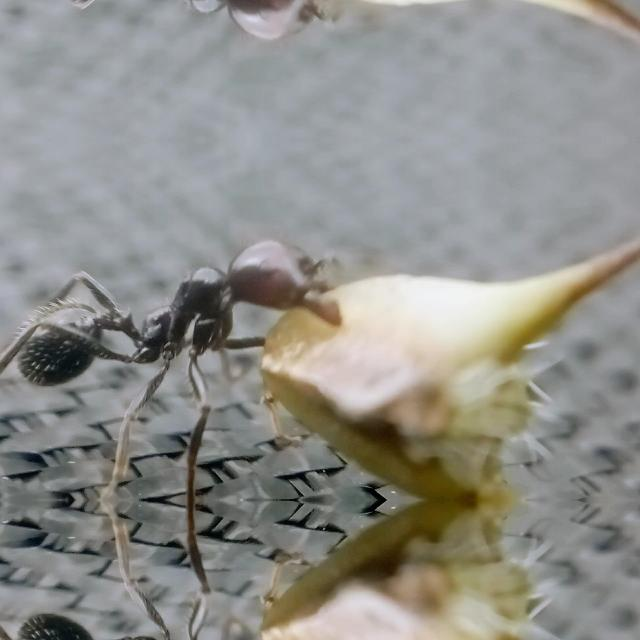Messor: (6, 220, 360, 436), (5, 564, 360, 640), (5, 0, 360, 59)
